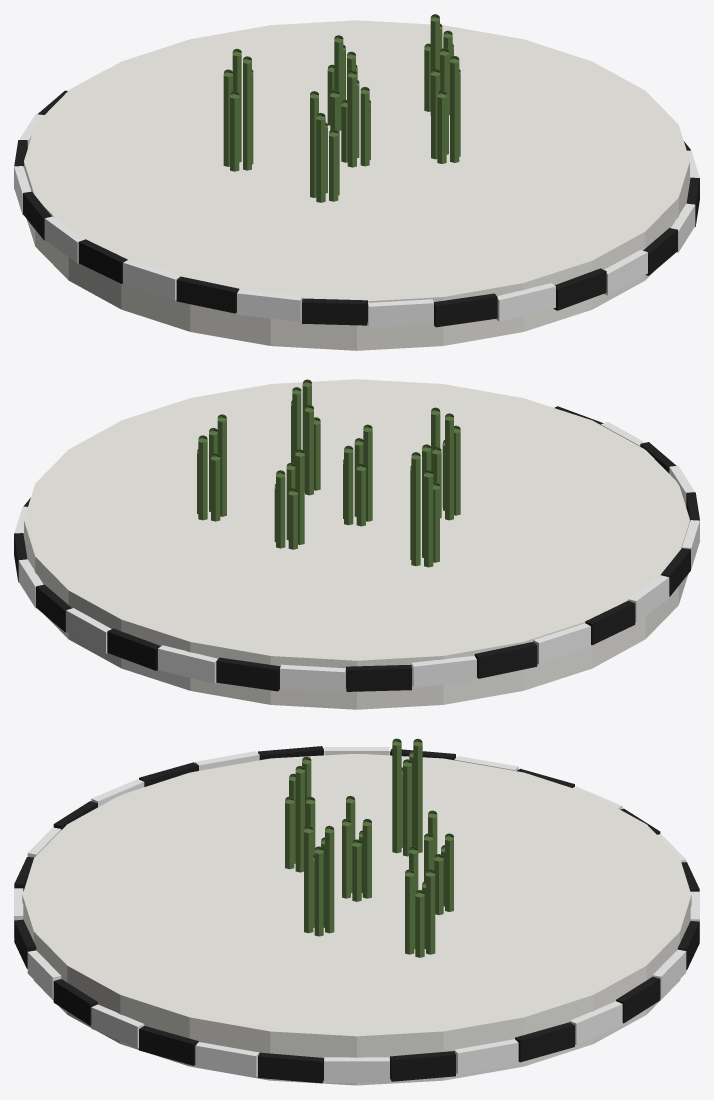
The model's file is rb_kayla.glb.
3 renders of one model, top to bottom at view 1: azimuth 30°, elevation 25°; view 2: azimuth 150°, elevation 25°; view 3: azimuth 270°, elevation 25°, orthographic.
Parts seen in each view (by area): view 1: rb_kayla_lod0; view 2: rb_kayla_lod0; view 3: rb_kayla_lod0.
Boxes of the visible parts, x1,y1,x2,y2 form: rb_kayla_lod0: [14, 14, 699, 350]; rb_kayla_lod0: [14, 379, 699, 709]; rb_kayla_lod0: [14, 738, 699, 1085].
Size of what is drawn, in the model's own units: 21.74 by 5.64 by 21.74.
